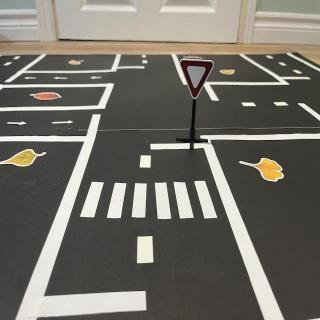road_crosswalk: (77, 178, 223, 223)
road_oneway: (51, 118, 77, 130), (5, 120, 30, 130), (25, 75, 40, 83), (52, 75, 70, 81), (90, 76, 104, 82)
sign_yield: (181, 60, 215, 100)
